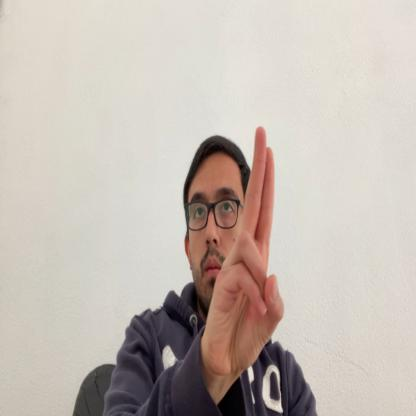U: (204, 126, 286, 372)
